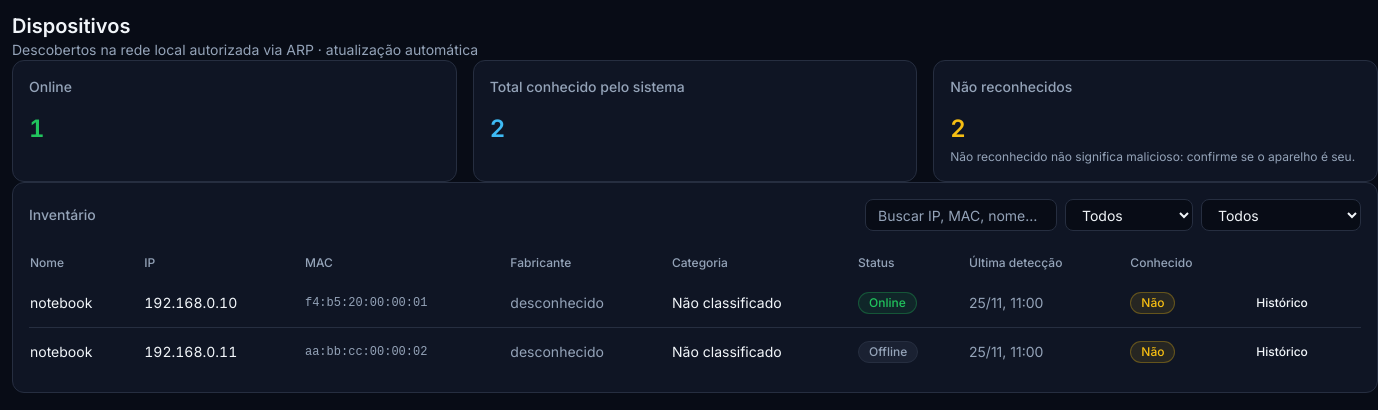
it: Devices › filtra por status
Check: the text "192.168.0.10" is shown, box [143,279,304,328]
Select "Offline" in the dropdown named "Filtrar por status" at x=1129, y=215, box [1065,199,1193,231]
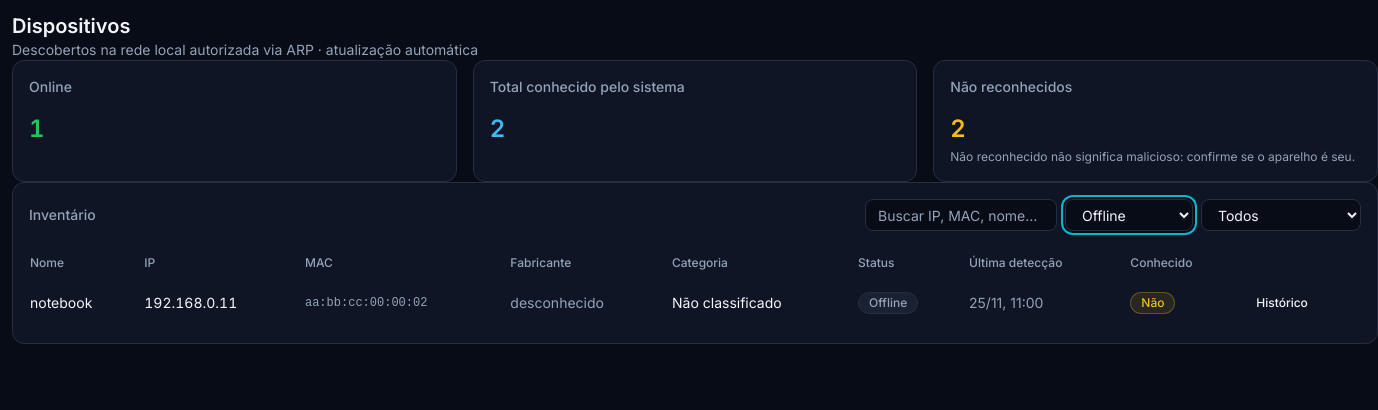
Check: the text "192.168.0.11" is shown, box [143,279,304,327]
Check: the text "192.168.0.10" is gone
